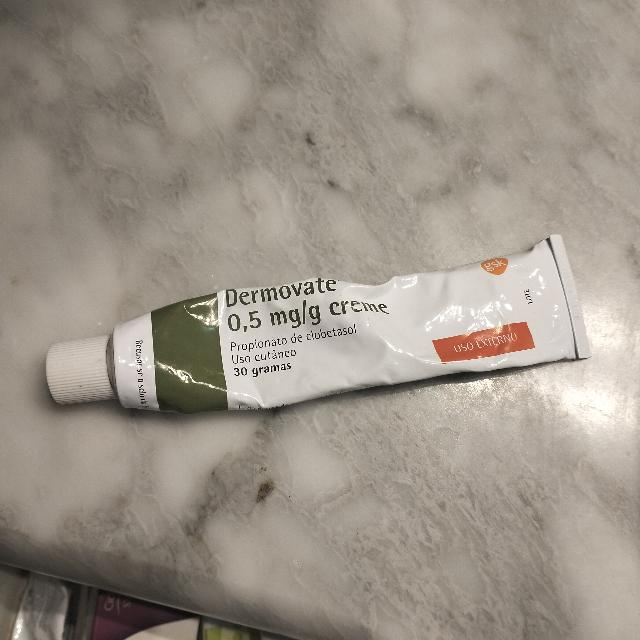tubo: (43, 231, 594, 417)
